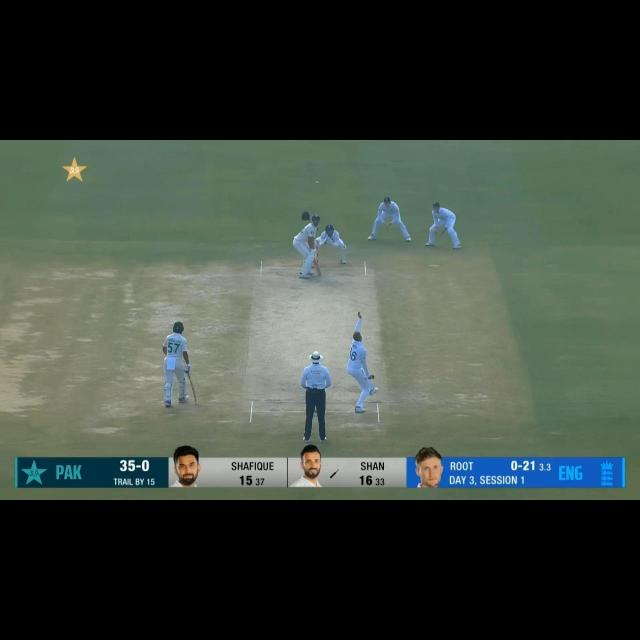bat: (188, 378, 200, 405), (314, 261, 322, 278)
toe: (193, 398, 199, 404), (316, 273, 322, 278)
